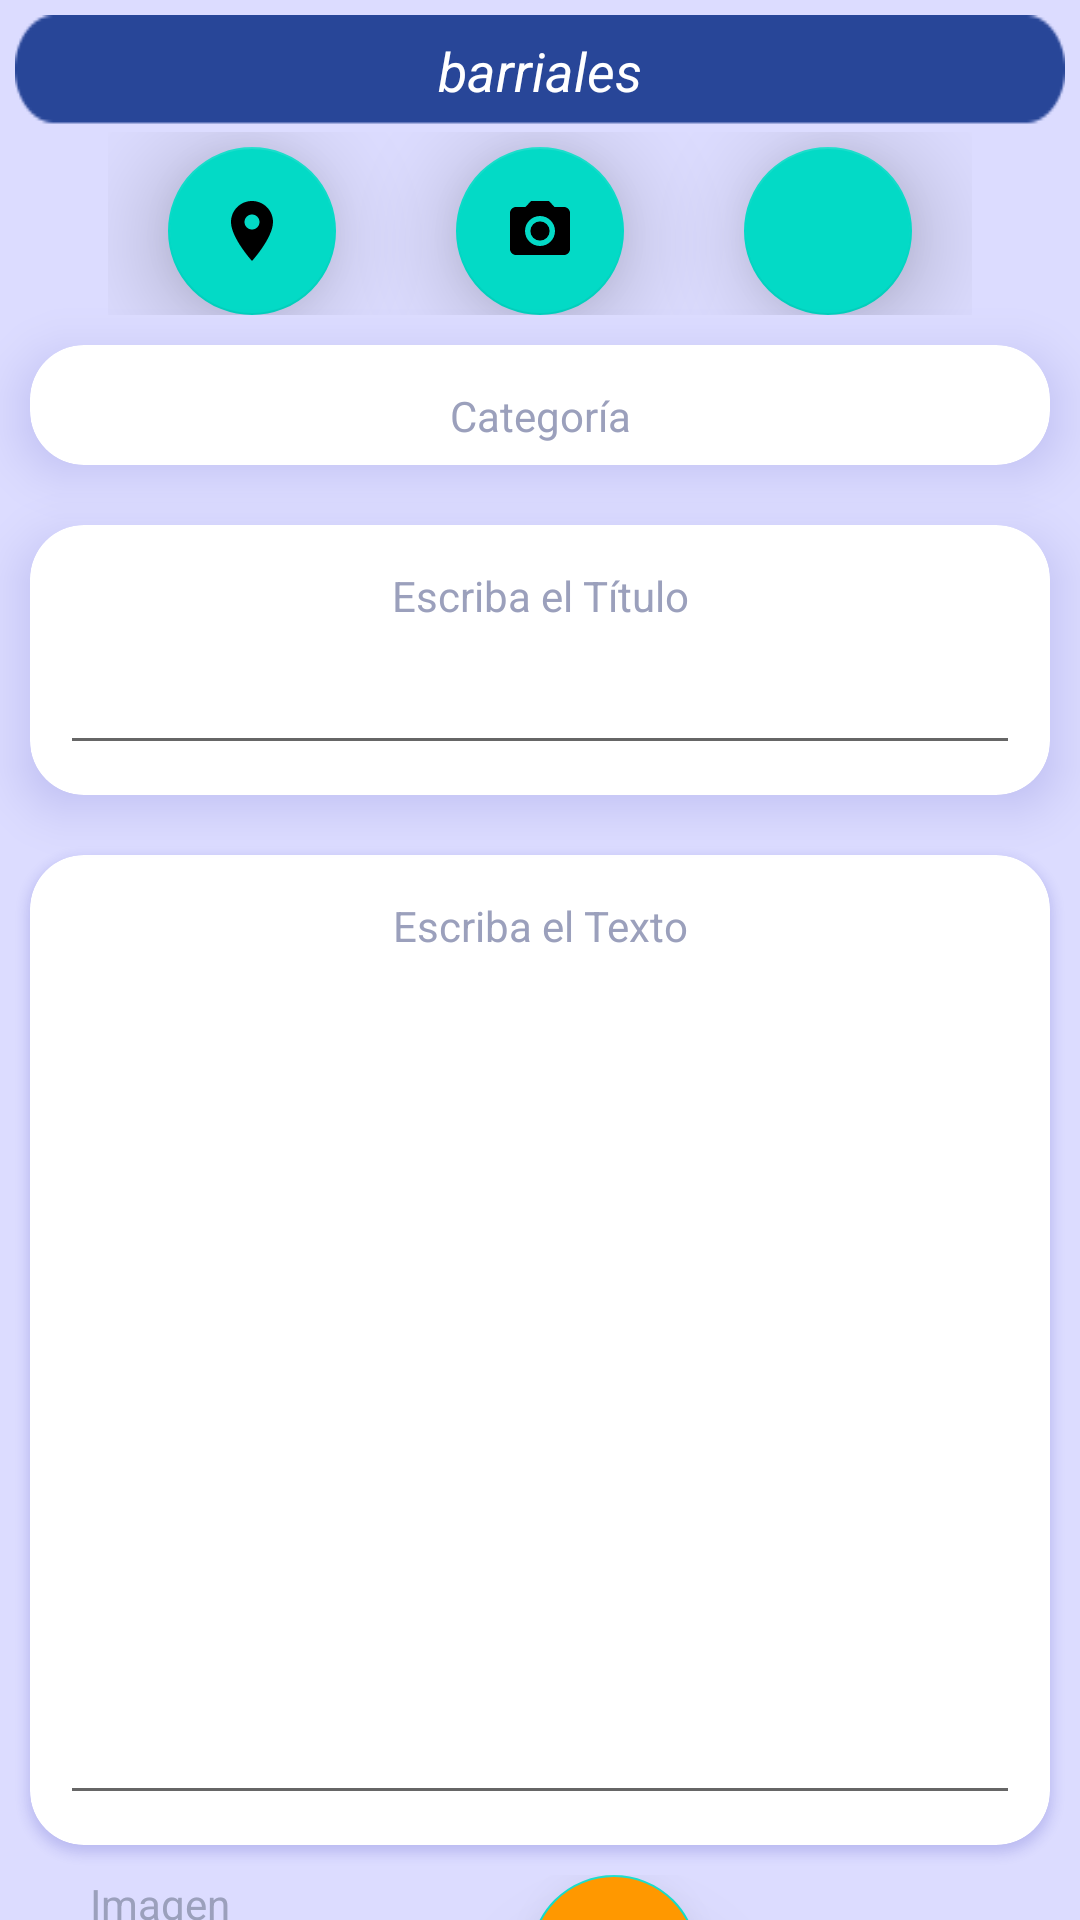

Icons on this 1080w x 1920h Android screen, each with its box as (x1, y1, x2, y2):
camera: (456, 147, 624, 315)
location on: (168, 147, 336, 315)
